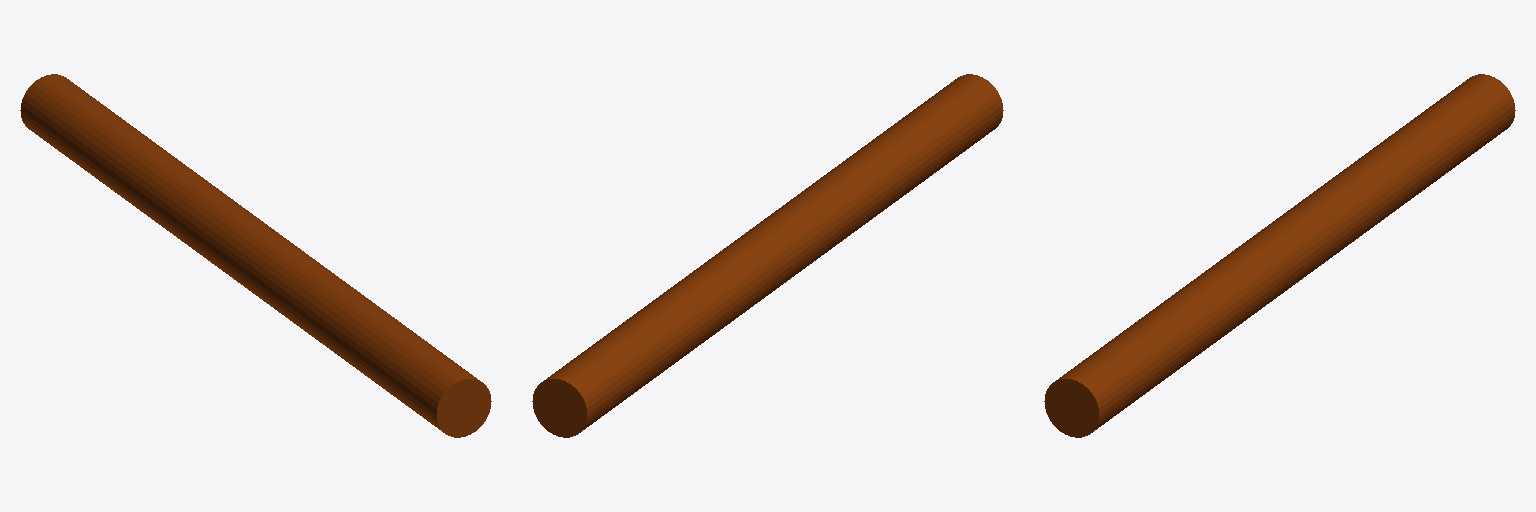
The robot description file, URDF, robot "cylinder":
<?xml version="1.0" ?>
<!-- =================================================================================== -->
<!-- |    This document was autogenerated by xacro from cylinder.xacro                 | -->
<!-- |    EDITING THIS FILE BY HAND IS NOT RECOMMENDED                                 | -->
<!-- =================================================================================== -->
<robot name="cylinder">
  <link name="world"/>
  <link name="base">
    <visual>
      <origin rpy="1.57079633 0 0" xyz="0 0 0"/>
      <geometry>
        <cylinder length="7.07106781185" radius="0.27"/>
      </geometry>
      <material name="cylinder_material">
        <color rgba="0.545 0.271 0.075 1.0"/>
        <texture filename="../textures/tree_bark.jpg"/>
      </material>
    </visual>
    <collision>
      <origin rpy="1.57079633 0 0" xyz="0 0 0"/>
      <geometry>
        <cylinder length="7.07106781185" radius="0.27"/>
      </geometry>
    </collision>
    <inertial>
      <origin rpy="0 0 0" xyz="0 0 0"/>
      <mass value="1"/>
      <inertia ixx="4.184891666648428" ixy="0.0" ixz="0.0" iyy="4.184891666648428" iyz="0.0" izz="24.999999999890573"/>
    </inertial>
  </link>
  <joint name="base_joint" type="fixed">
    <parent link="world"/>
    <child link="base"/>
    <origin rpy="0 0 0" xyz="0.0 0.0 0.0"/>
  </joint>
</robot>

--- Render facts (derived) ---
The picture shows the robot from 3 angles, left to right: view 1: azimuth 30°, elevation 25°; view 2: azimuth 150°, elevation 25°; view 3: azimuth 330°, elevation 25°; orthographic projection.
Robot: cylinder — 2 links, 1 joints (1 fixed); root link world; default pose: every joint at zero.
Visible links, largest first — view 1: base; view 2: base; view 3: base.
Link boxes in pixels (x1,y1,x2,y2): base: (20,74,491,437); base: (532,74,1003,437); base: (1044,74,1515,437).
Size in the robot's own frame: 0.54 by 7.07 by 0.54 metres.
Geometry: primitives only (box / cylinder / sphere), no mesh files.
